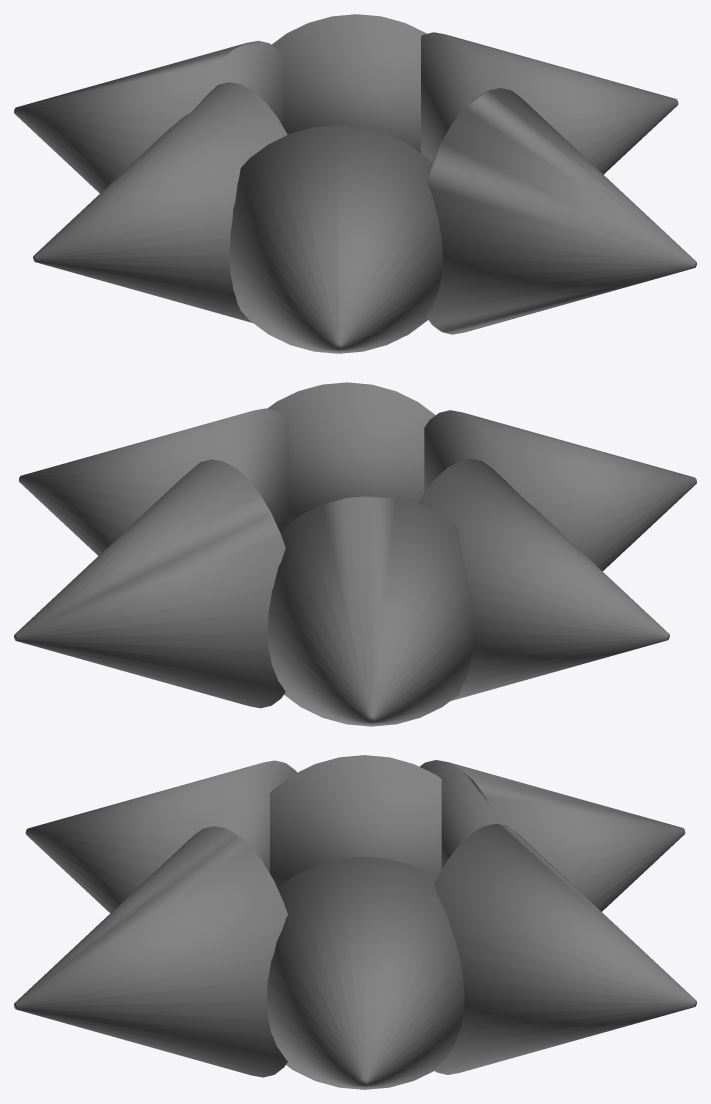
Rendered from Drills.fbx.
3 renders of one model, top to bottom at view 1: azimuth 30°, elevation 25°; view 2: azimuth 150°, elevation 25°; view 3: azimuth 270°, elevation 25°, orthographic.
Visible parts, largest first — view 1: Drill_0; view 2: Drill_0; view 3: Drill_0.
Boxes of the visible parts, left/top/right/bottom form: Drill_0: left=14, top=14, right=696, bottom=353; Drill_0: left=14, top=382, right=696, bottom=726; Drill_0: left=14, top=755, right=696, bottom=1089.
Bounding box in the file's own units: 80.39 × 27.39 × 72.71.
1 material, 1 textured.
